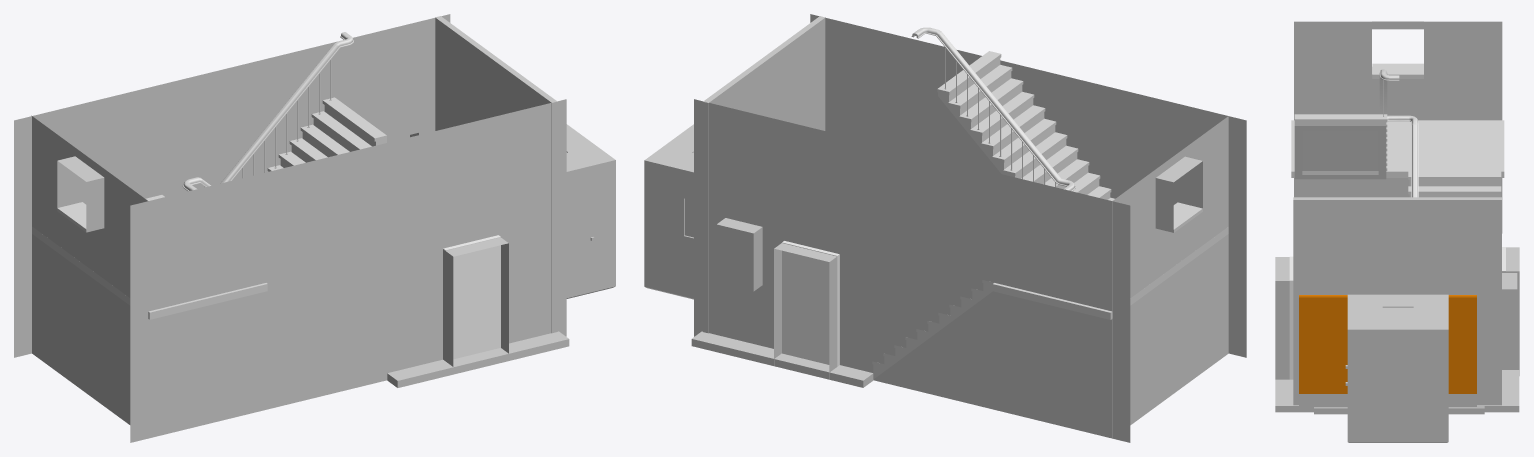
The model's file is entryway.fbx.
3 renders of one model, left to right at view 1: azimuth 30°, elevation 25°; view 2: azimuth 150°, elevation 25°; view 3: azimuth 270°, elevation 25°, orthographic. The views are drawn at different scales.
Visible parts, largest first — view 1: right_wall, left_wall, back_wall, front_wall, elevator, door_right, stairs_2, floor1, floor2, handrail_2; view 2: left_wall, right_wall, back_wall, stairs_2, front_wall, elevator, door_left, floor1, floor2, handrail_2, stairs; view 3: front_wall, back_wall, elevator, stairs_2, floor2, elevator_door_left.003, elevator_door_left.001, stairs, left_wall, right_wall, floor1, windowsill (+6 smaller).
Boxes of the visible parts, box(x1,y1,x2,y2) form: right_wall: box(130, 99, 566, 442); left_wall: box(14, 14, 450, 357); back_wall: box(31, 115, 147, 424); front_wall: box(435, 16, 557, 333); elevator: box(566, 124, 615, 298); door_right: box(443, 235, 500, 359); stairs_2: box(267, 97, 386, 171); floor1: box(387, 331, 569, 387); floor2: box(32, 197, 267, 319); handrail_2: box(190, 32, 354, 190); left_wall: box(694, 99, 1130, 442); right_wall: box(810, 14, 1246, 357); back_wall: box(1112, 116, 1228, 438); stairs_2: box(937, 51, 1111, 199); front_wall: box(703, 16, 825, 333); elevator: box(644, 124, 693, 299); door_left: box(782, 241, 839, 366); floor1: box(691, 331, 873, 387); floor2: box(992, 197, 1228, 319); handrail_2: box(911, 27, 1075, 191); stairs: box(872, 280, 993, 379); front_wall: box(1293, 197, 1501, 405); back_wall: box(1294, 21, 1502, 233); elevator: box(1347, 278, 1448, 442); stairs_2: box(1294, 114, 1387, 179); floor2: box(1291, 120, 1504, 177); elevator_door_left.003: box(1299, 296, 1347, 393); elevator_door_left.001: box(1448, 296, 1476, 393); stairs: box(1408, 171, 1501, 197); left_wall: box(1502, 247, 1519, 375); right_wall: box(1275, 257, 1289, 379); floor1: box(1275, 370, 1519, 412); windowsill: box(1372, 63, 1423, 78).
Size of the model in its own units: 907 by 510 by 418.
